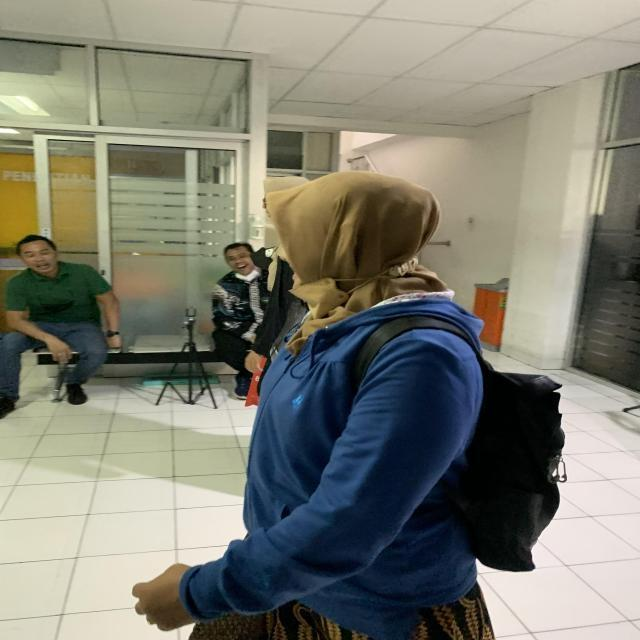hairnet: (265, 172, 468, 302), (212, 238, 274, 284)
